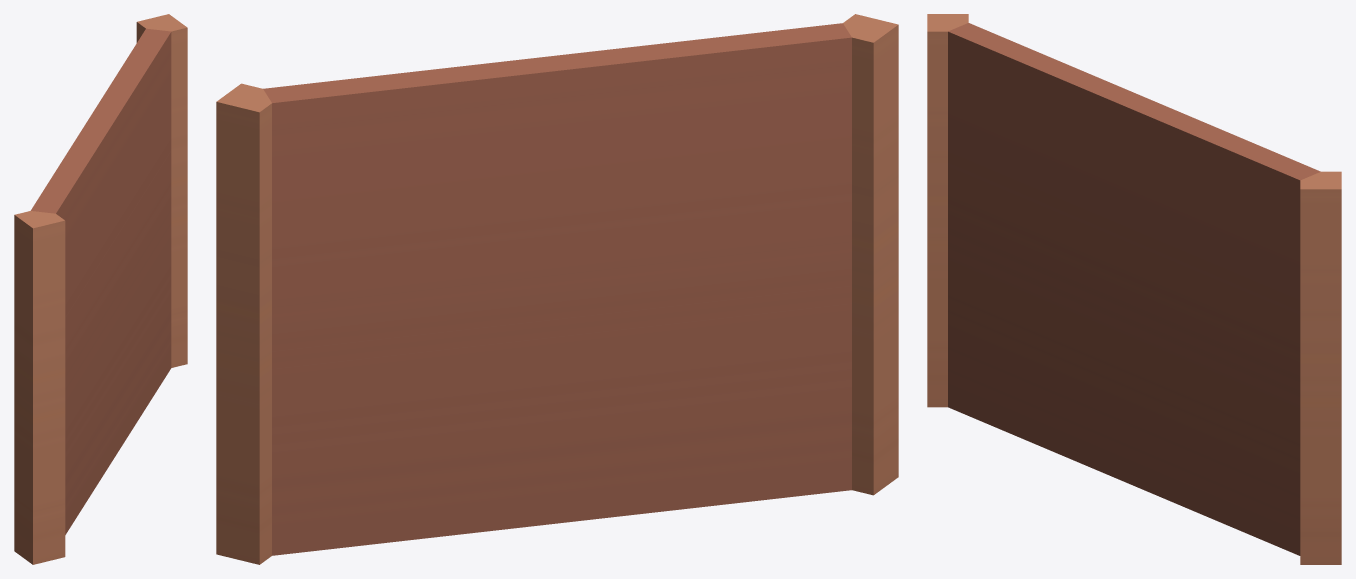
File: wall-wood-diagonal.fbx
3 views of the same model, side by side, from view 1: azimuth 30°, elevation 25°; view 2: azimuth 150°, elevation 25°; view 3: azimuth 270°, elevation 25° (orthographic). The views are drawn at different scales.
Parts seen in each view (by area): view 1: wall-wood-diagonal; view 2: wall-wood-diagonal; view 3: wall-wood-diagonal.
Part boxes in pixels (x1,y1,x2,y2): wall-wood-diagonal: (14, 14, 187, 564); wall-wood-diagonal: (216, 14, 898, 564); wall-wood-diagonal: (927, 14, 1341, 564).
Bounding box in the file's own units: 100 × 100 × 100.
Materials: 1 (1 with a texture image).
